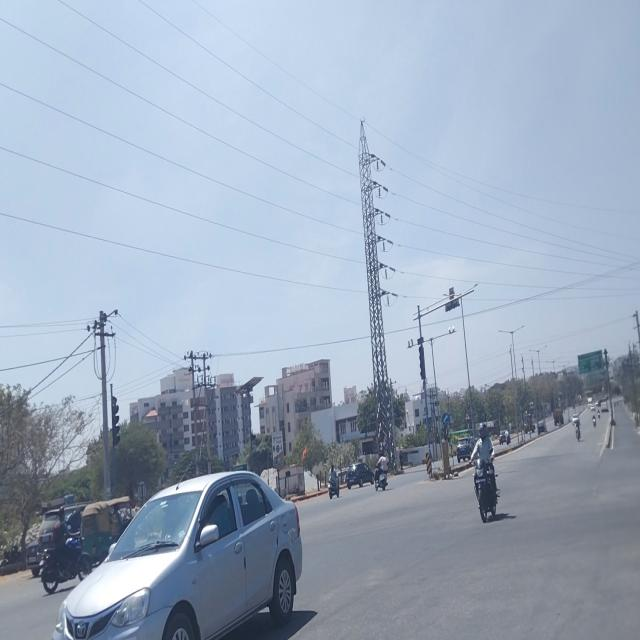bien_cam: (442, 412, 449, 426), (465, 412, 470, 422)
